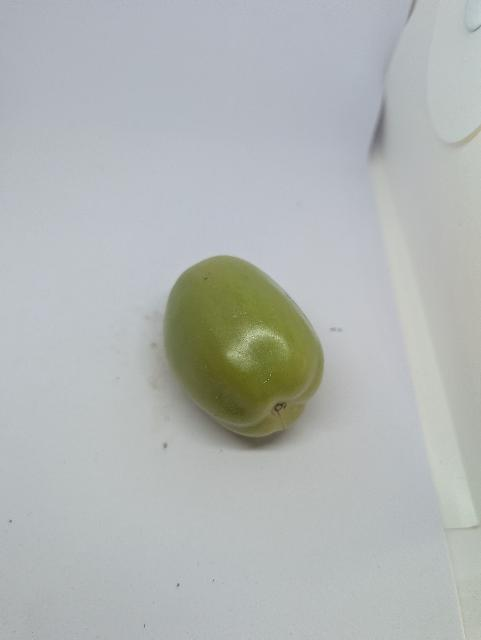green: (159, 253, 328, 441)
